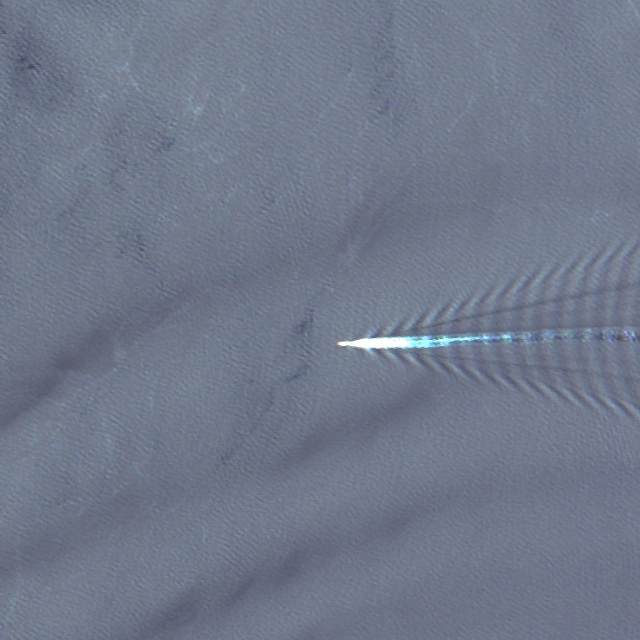wake: (323, 241, 637, 422)
